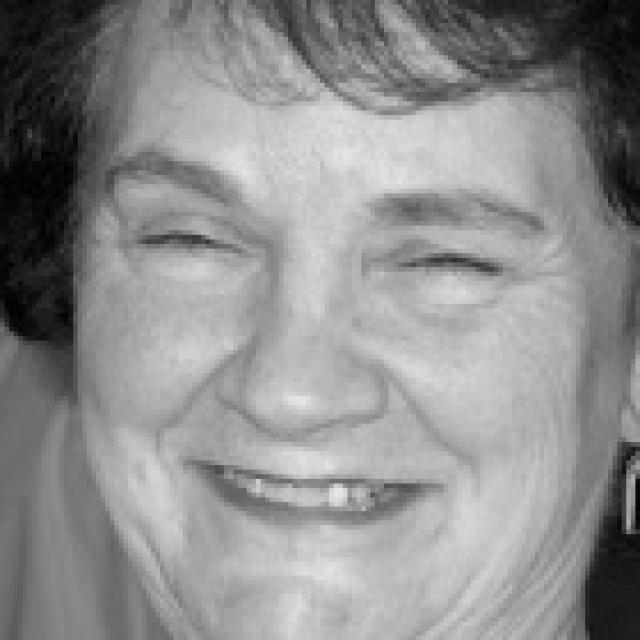real: (66, 74, 614, 626), (127, 187, 521, 324)
